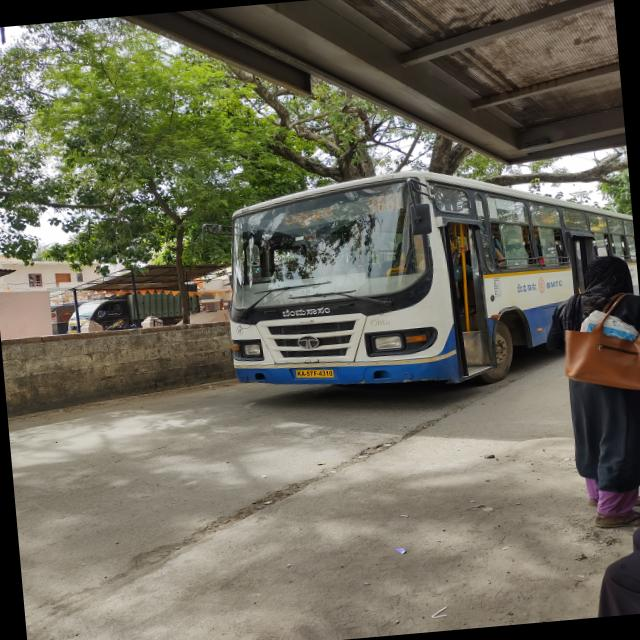bus: (202, 157, 640, 409)
display: (260, 186, 410, 232)
dnumber: (365, 192, 405, 214)
